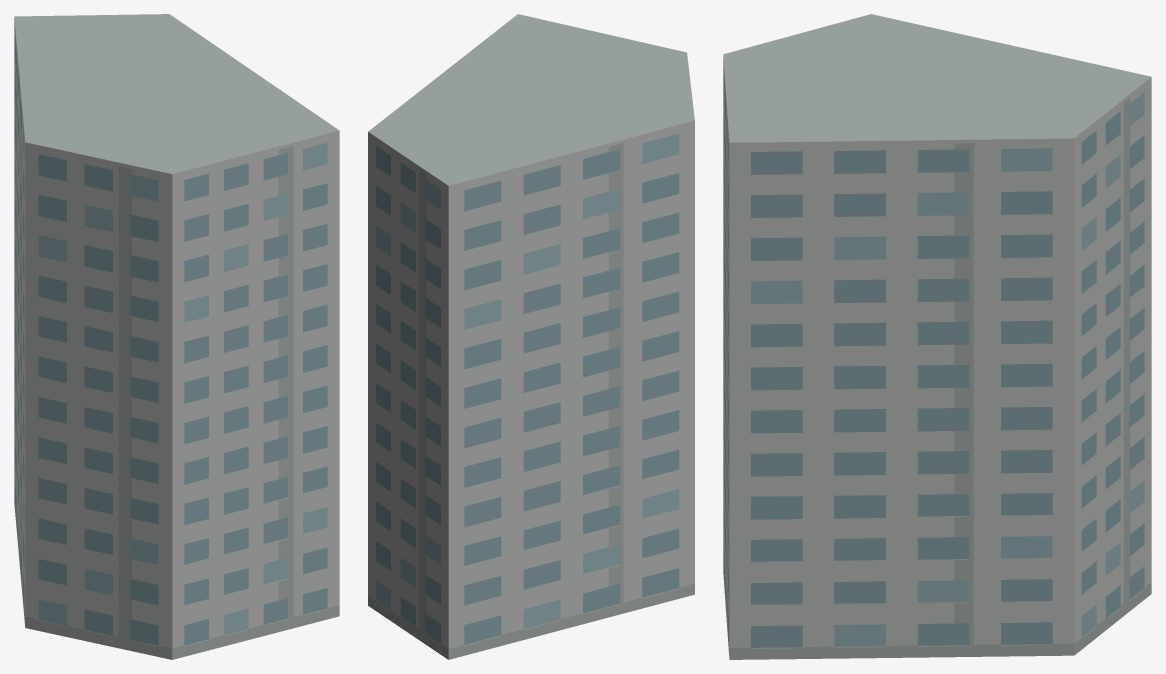
Rendered from residential-288ca7ce-7814-464d-abee-fb7c7beeb15c.glb.
3 renders of one model, left to right at view 1: azimuth 30°, elevation 25°; view 2: azimuth 150°, elevation 25°; view 3: azimuth 270°, elevation 25°, orthographic. The views are drawn at different scales.
Visible parts, largest first — view 1: residential-288ca7ce-7814-464d-abee-fb7c7beeb15c.tmp; view 2: residential-288ca7ce-7814-464d-abee-fb7c7beeb15c.tmp; view 3: residential-288ca7ce-7814-464d-abee-fb7c7beeb15c.tmp.
Part boxes in pixels (bbox=[...]): residential-288ca7ce-7814-464d-abee-fb7c7beeb15c.tmp: bbox=[14, 14, 339, 659]; residential-288ca7ce-7814-464d-abee-fb7c7beeb15c.tmp: bbox=[368, 14, 694, 659]; residential-288ca7ce-7814-464d-abee-fb7c7beeb15c.tmp: bbox=[723, 14, 1151, 659].
Size of the model in its own units: 18.7 by 35 by 26.28.
